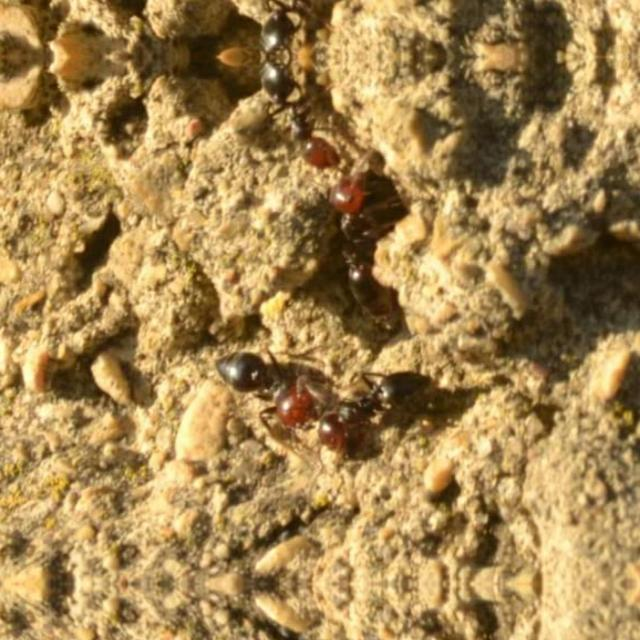Crematogaster: (319, 160, 401, 326), (310, 355, 436, 463), (246, 56, 350, 174), (209, 348, 309, 432), (246, 0, 350, 56)
